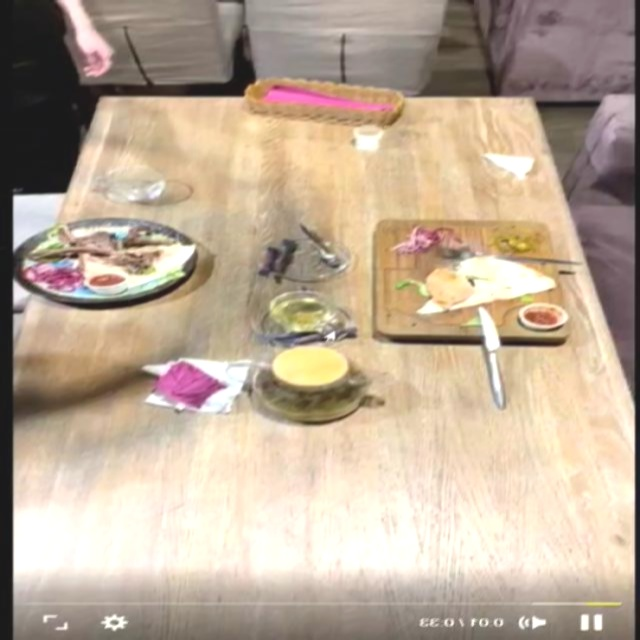meat: (371, 219, 567, 339), (3, 207, 210, 309)
tea: (253, 345, 372, 423)
